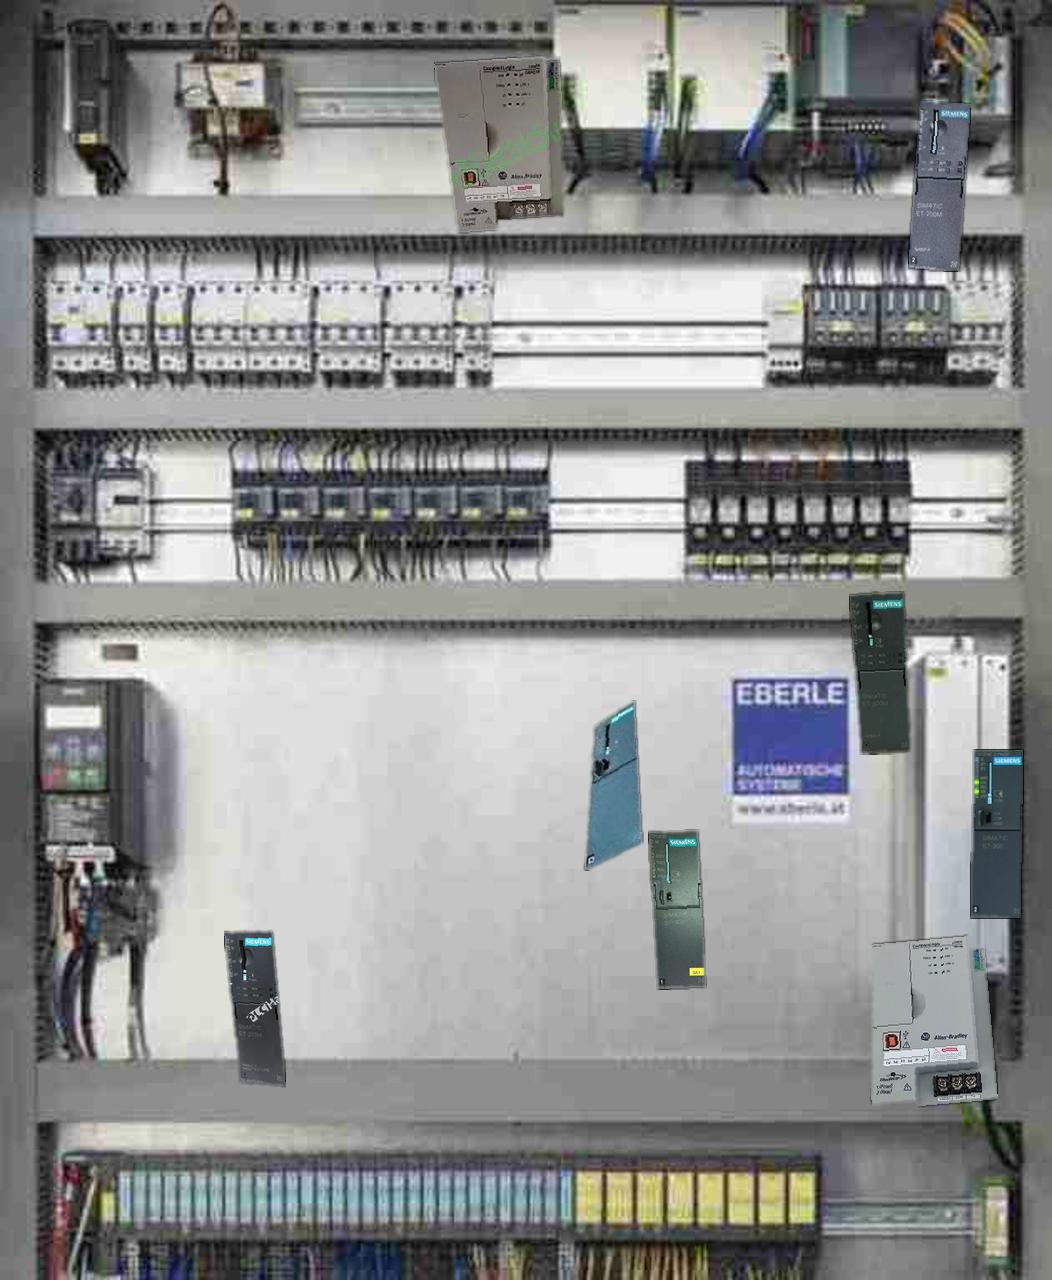AllenBradley: (434, 57, 563, 231), (871, 936, 997, 1105)
Siemens: (586, 701, 641, 869), (649, 831, 705, 988), (971, 750, 1022, 917)
